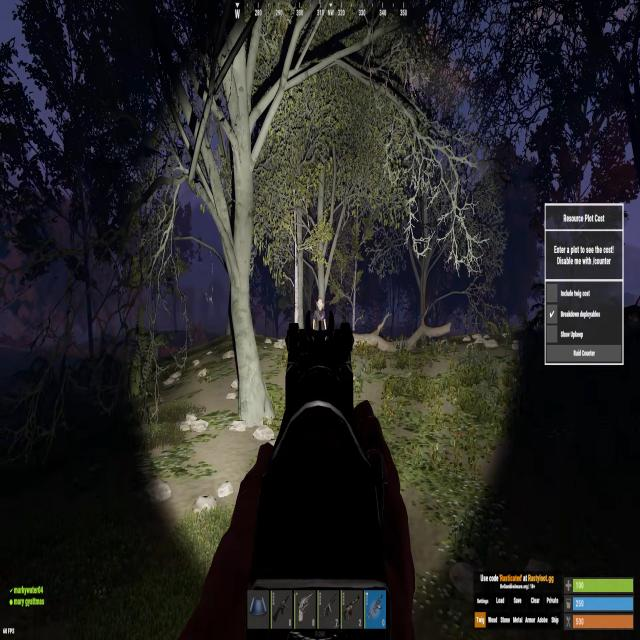Player: (312, 298, 328, 330)
